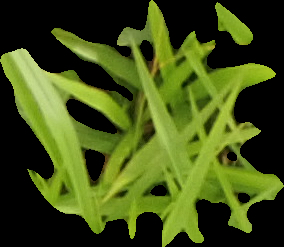grass: (1, 1, 283, 246)
